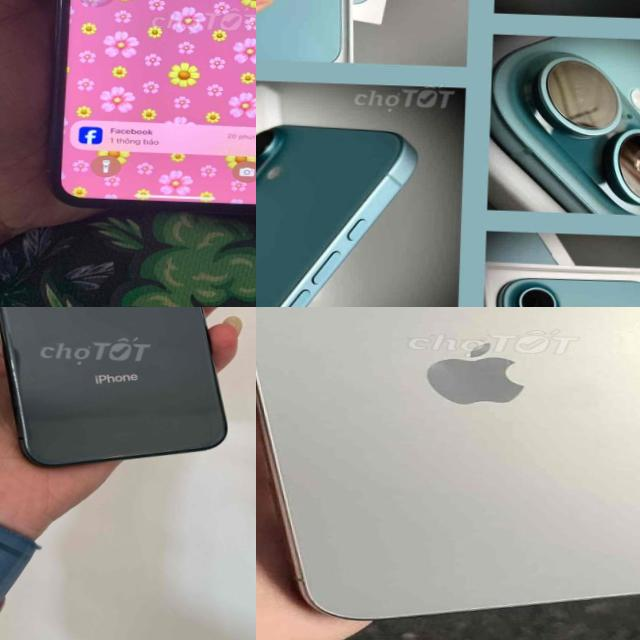gen_15: (256, 307, 640, 630)
gen_x_xs: (42, 0, 256, 229), (0, 307, 225, 466)
